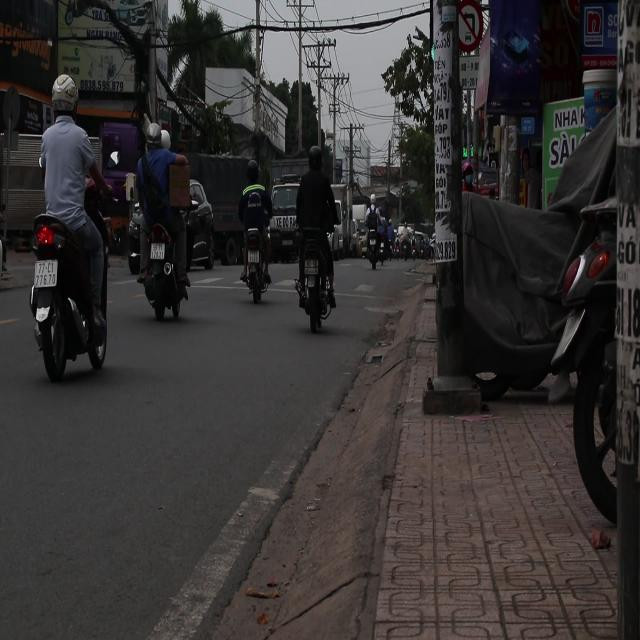car: (270, 184, 302, 252)
motorbike: (27, 213, 108, 380), (126, 156, 192, 320), (293, 222, 335, 348), (240, 219, 270, 313), (364, 220, 393, 270)
truck: (0, 80, 57, 253), (192, 148, 245, 263)
